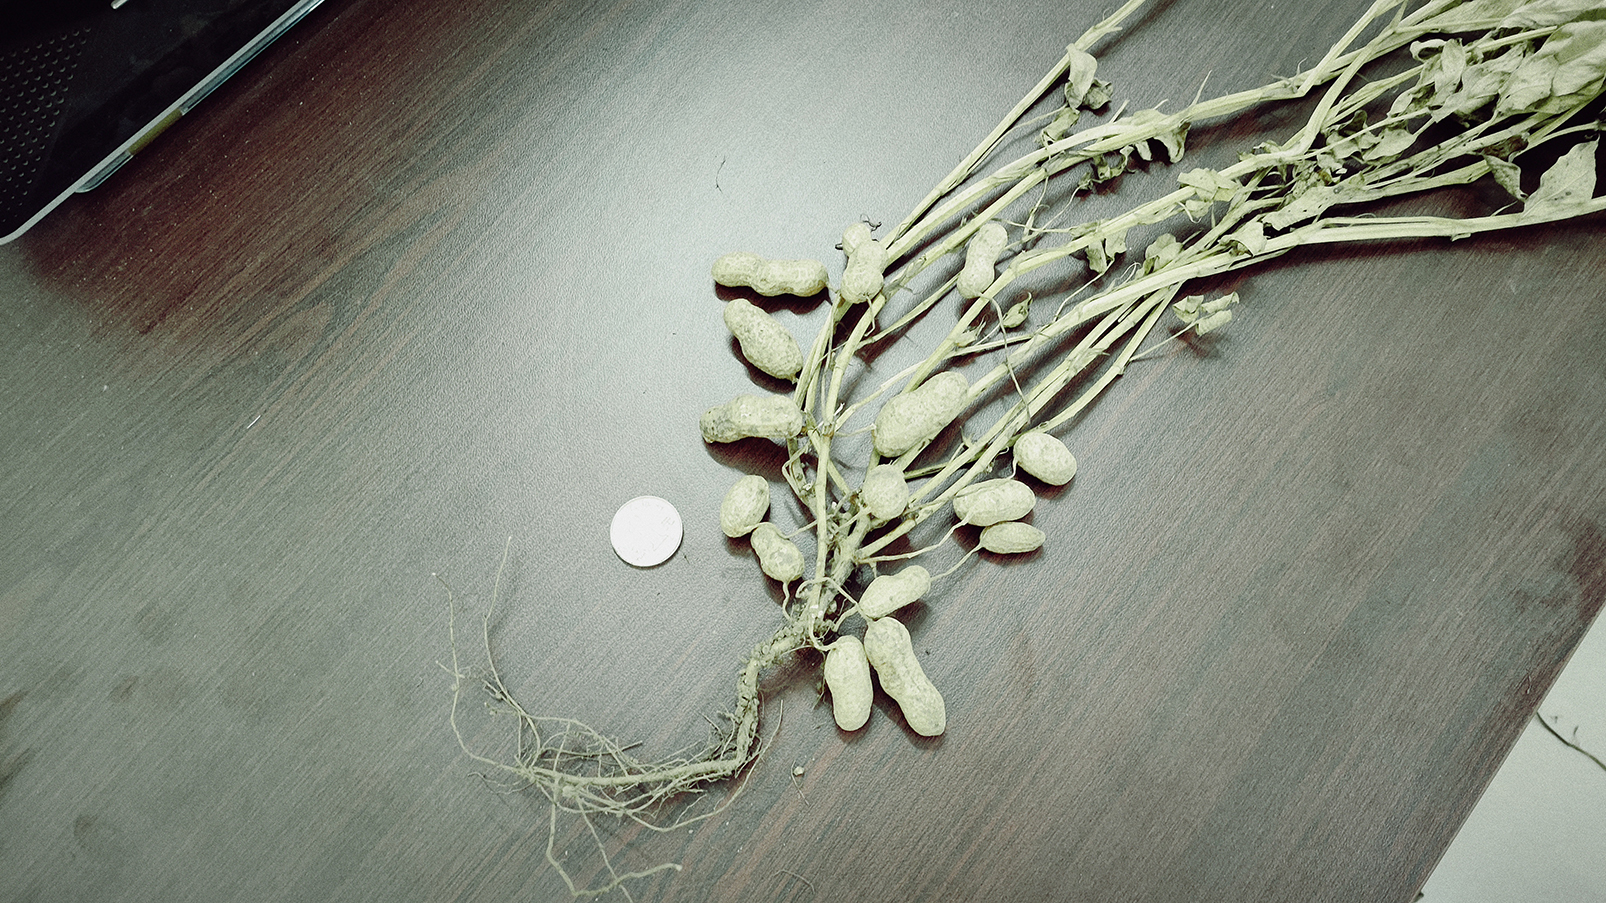h: (866, 617, 947, 737), (874, 370, 968, 458), (725, 295, 804, 381), (710, 250, 827, 298), (702, 394, 802, 443), (823, 635, 872, 730), (954, 479, 1036, 527), (957, 221, 1007, 299), (839, 218, 885, 303), (858, 565, 930, 615), (1014, 433, 1078, 484), (720, 475, 771, 539), (752, 524, 804, 581), (863, 465, 910, 518), (981, 522, 1046, 555)
